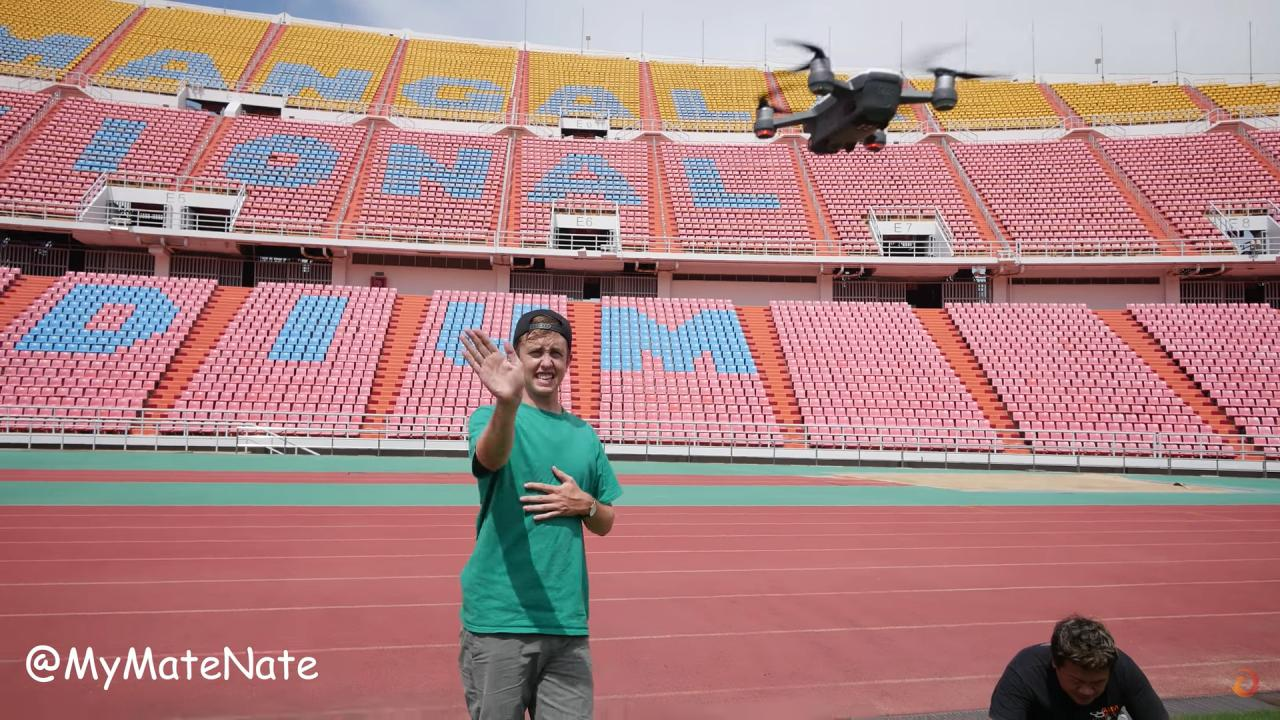Drone: (724, 15, 1028, 174)
